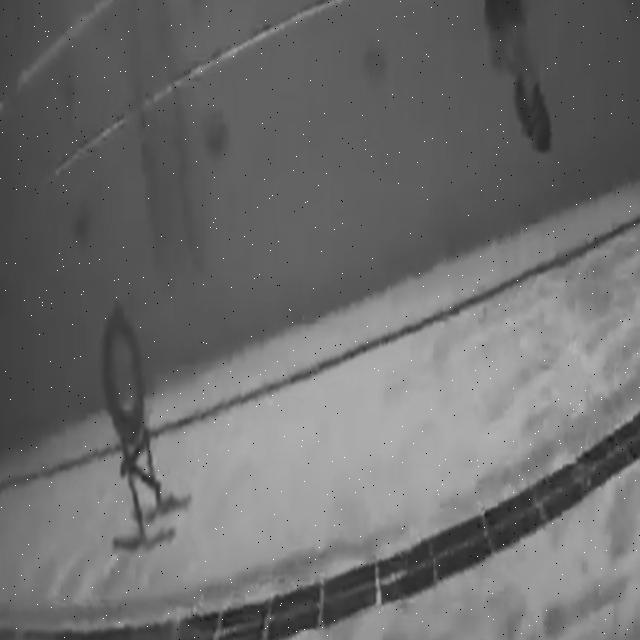Circle: (101, 305, 142, 442)
